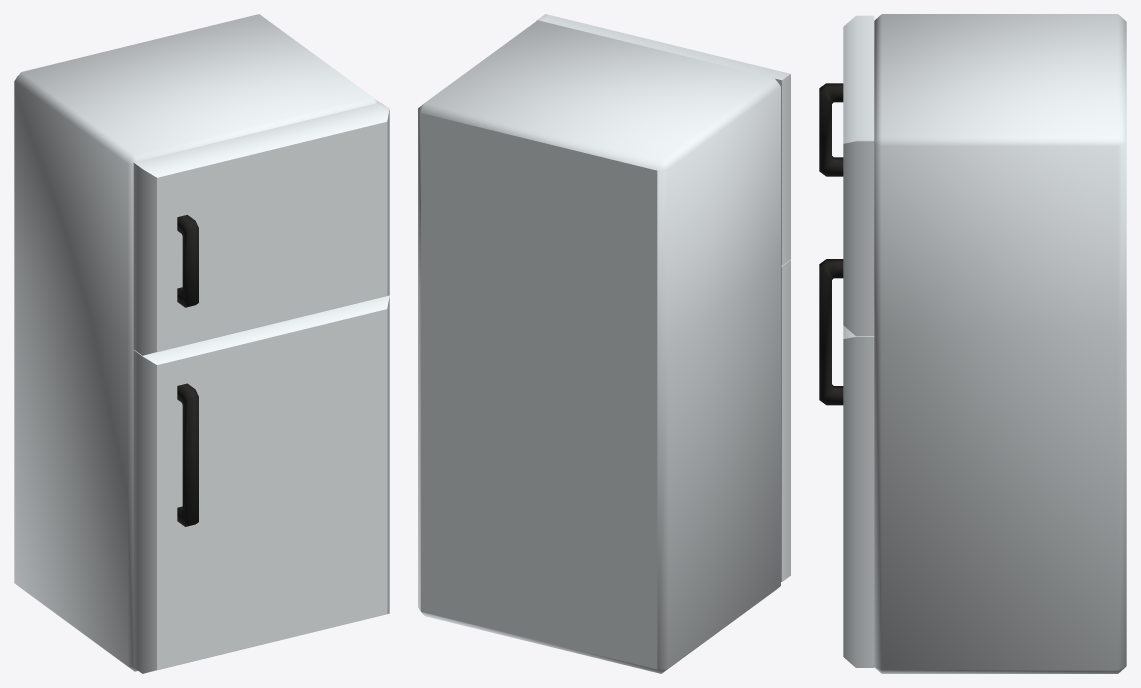
Rendered from 12_prop_refrigerator.FBX.
The picture shows the model from 3 angles, left to right: view 1: azimuth 30°, elevation 25°; view 2: azimuth 150°, elevation 25°; view 3: azimuth 270°, elevation 25°; orthographic projection. The views are drawn at different scales.
Visible parts, largest first — view 1: prop_refrigerator, prop_refrigerator door2, prop_refrigerator door1; view 2: prop_refrigerator, prop_refrigerator door1, prop_refrigerator door2; view 3: prop_refrigerator, prop_refrigerator door2, prop_refrigerator door1.
Part boxes in pixels (box(x1,y1,x2,y2)): prop_refrigerator: box(14, 14, 378, 671); prop_refrigerator door2: box(133, 296, 389, 673); prop_refrigerator door1: box(133, 102, 389, 355); prop_refrigerator: box(418, 20, 780, 673); prop_refrigerator door1: box(536, 14, 790, 265); prop_refrigerator door2: box(781, 260, 790, 581); prop_refrigerator: box(874, 14, 1126, 673); prop_refrigerator door2: box(819, 259, 874, 667); prop_refrigerator door1: box(819, 15, 874, 336).
Bounding box in the file's own units: 52.03 × 102 × 52.73.
